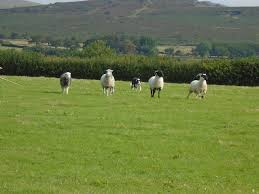sheep: (188, 72, 211, 102), (147, 72, 165, 98), (103, 68, 118, 93), (60, 73, 74, 95), (131, 78, 144, 92)
